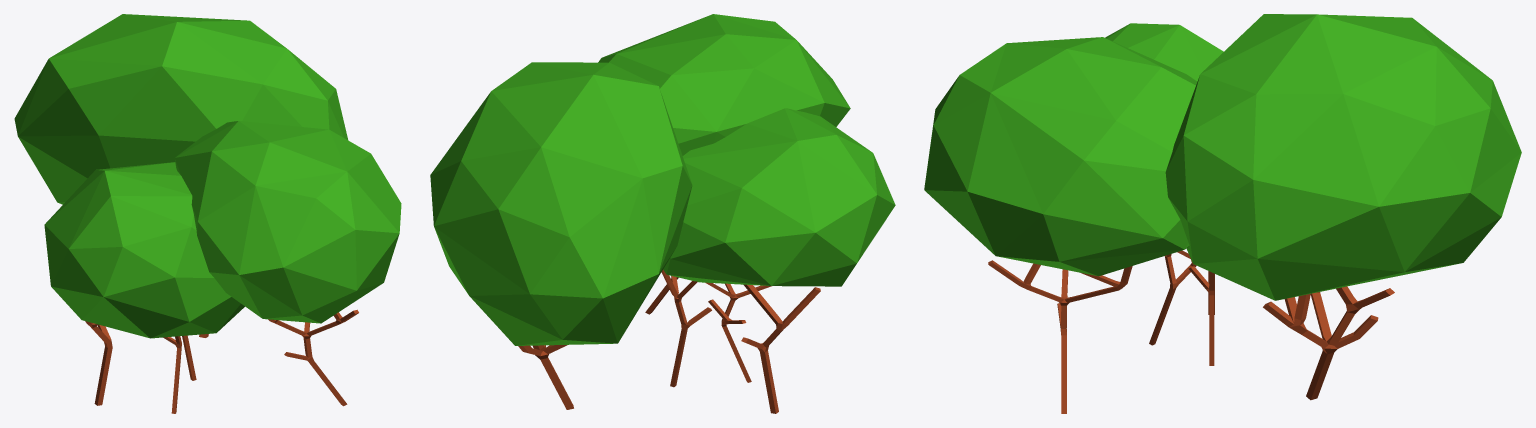
The model's file is Bushes.fbx.
3 renders of one model, left to right at view 1: azimuth 30°, elevation 25°; view 2: azimuth 150°, elevation 25°; view 3: azimuth 270°, elevation 25°, orthographic. The views are drawn at different scales.
Parts seen in each view (by area): view 1: Bush, Plane; view 2: Bush, Plane; view 3: Bush, Plane.
Part boxes in pixels (box(x1,y1,x2,y2)): Bush: box(14, 14, 401, 338); Plane: box(85, 309, 358, 413); Bush: box(430, 14, 895, 345); Plane: box(518, 269, 820, 413); Bush: box(924, 14, 1521, 300); Plane: box(988, 250, 1394, 413).
Size of the model in its own units: 307 by 287 by 418.
